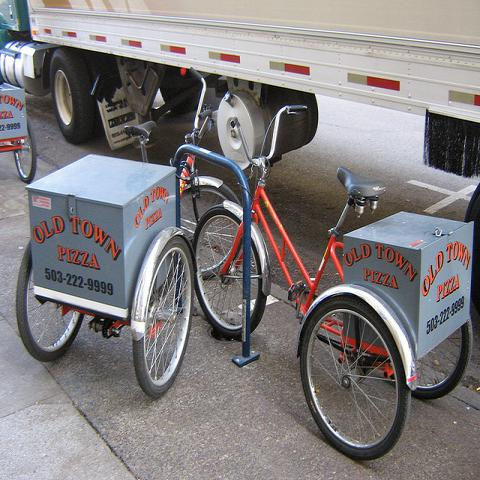truck: (1, 1, 479, 312)
